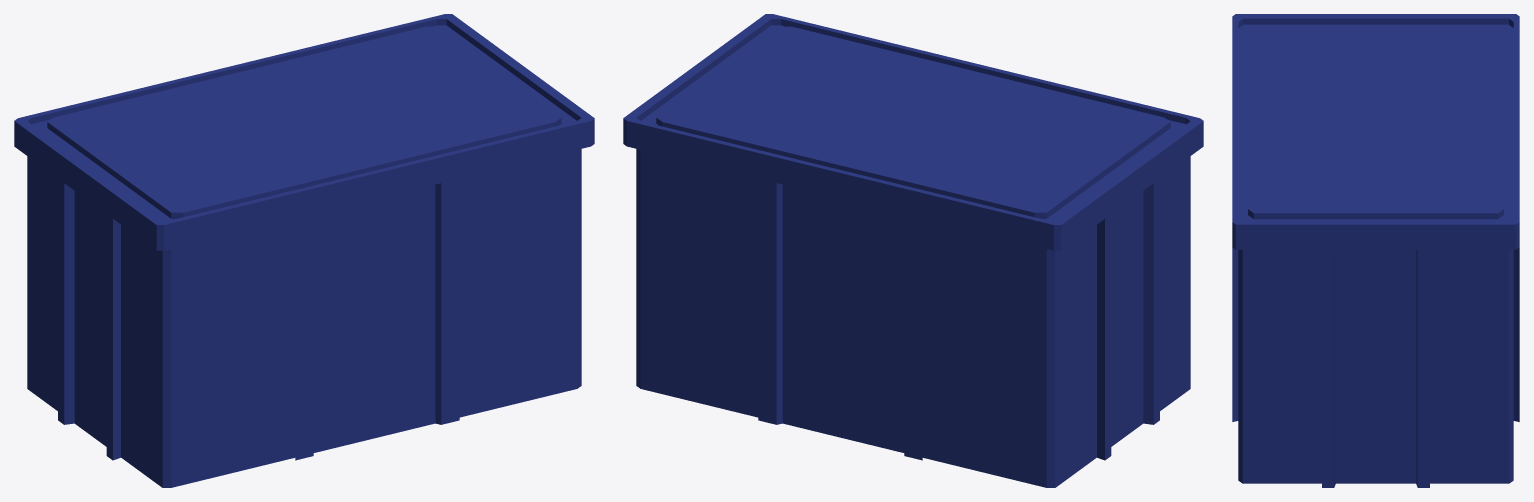
Rendered from BlueBigBox.fbx.
3 renders of one model, left to right at view 1: azimuth 30°, elevation 25°; view 2: azimuth 150°, elevation 25°; view 3: azimuth 270°, elevation 25°, orthographic.
Parts seen in each view (by area): view 1: BlueBigBox; view 2: BlueBigBox; view 3: BlueBigBox.
Boxes of the visible parts, x1=… form: BlueBigBox: x1=14, y1=14, x2=594, y2=487; BlueBigBox: x1=623, y1=14, x2=1203, y2=487; BlueBigBox: x1=1232, y1=14, x2=1519, y2=487.
Size of the model in its own units: 362 by 211 by 209.
